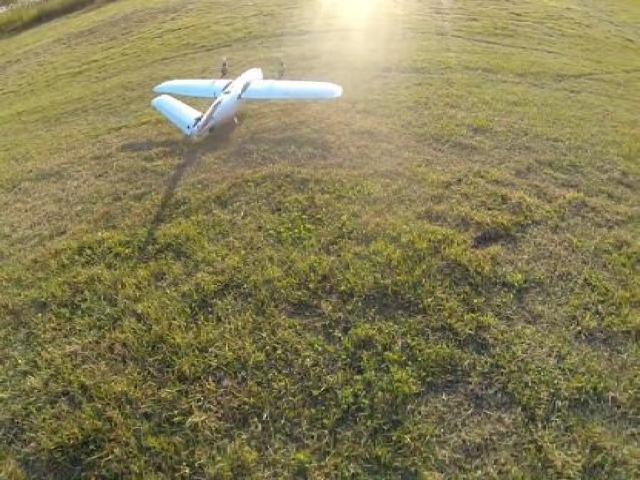uav: (138, 51, 350, 146)
